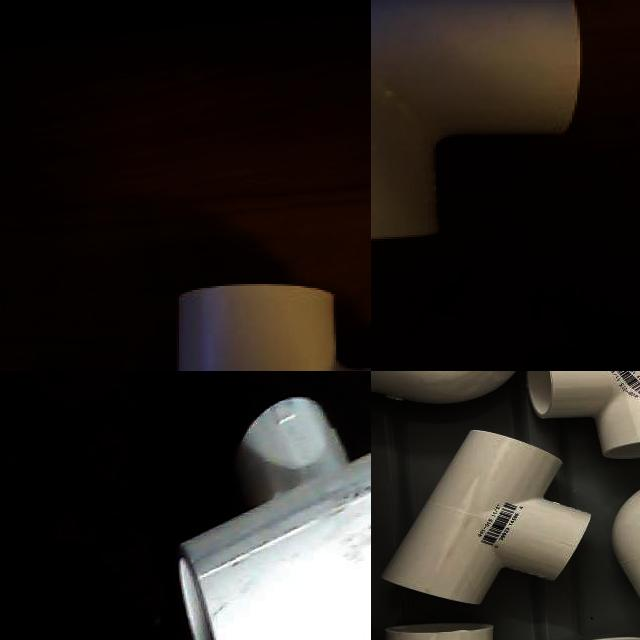L Joint: (371, 0, 583, 242), (527, 371, 640, 462), (371, 371, 514, 405)
T Joint: (176, 397, 371, 640), (381, 431, 592, 608)
